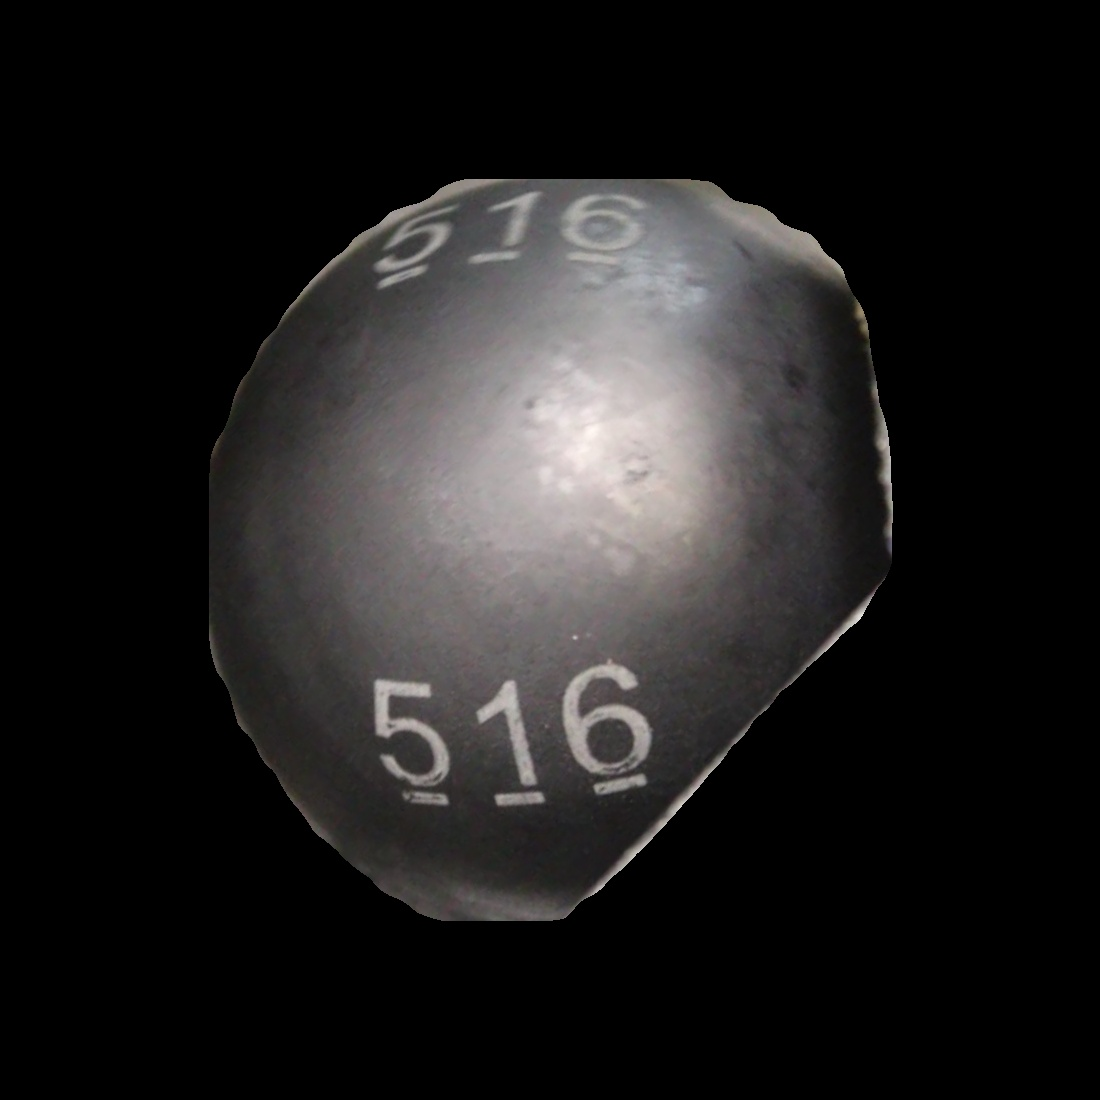digits: (359, 663, 673, 811)
